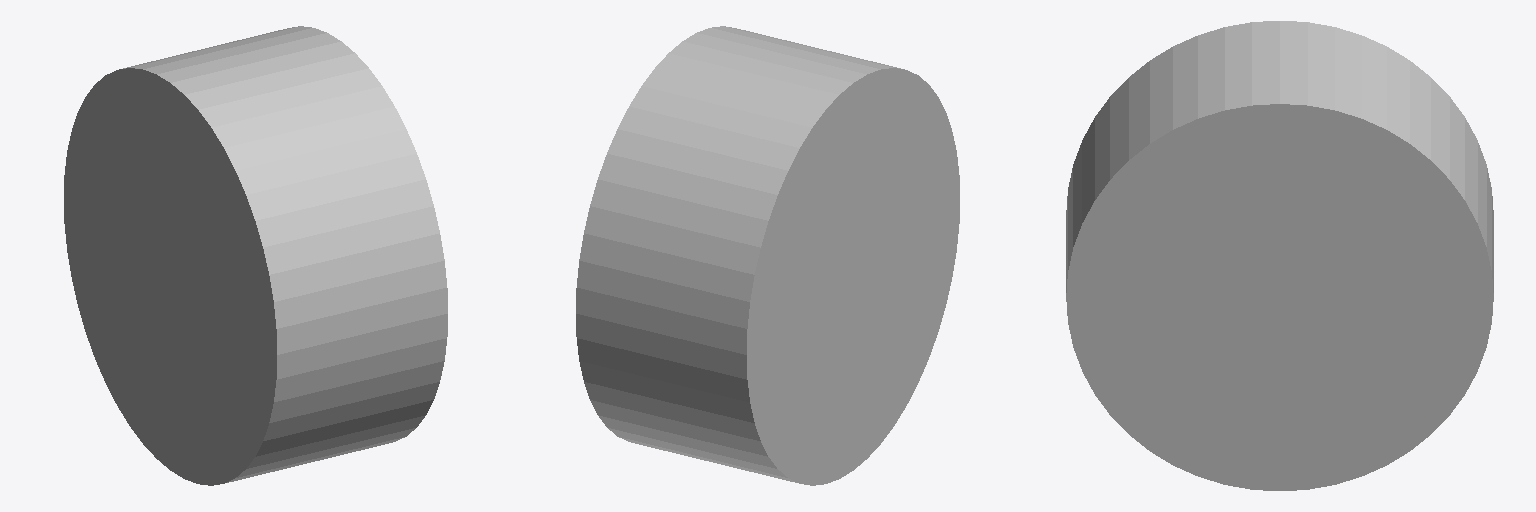
Rendered from WheelShape50.obj.
The picture shows the model from 3 angles: view 1: azimuth 30°, elevation 25°; view 2: azimuth 150°, elevation 25°; view 3: azimuth 270°, elevation 25°; orthographic projection.
Parts seen in each view (by area): view 1: SketchUp; view 2: SketchUp; view 3: SketchUp.
Boxes of the visible parts, x1,y1,x2,y2 form: SketchUp: [64, 26, 447, 485]; SketchUp: [576, 26, 959, 485]; SketchUp: [1066, 21, 1493, 490].
Bounding box in the file's own units: 0.0425 × 0.0921 × 0.0921.